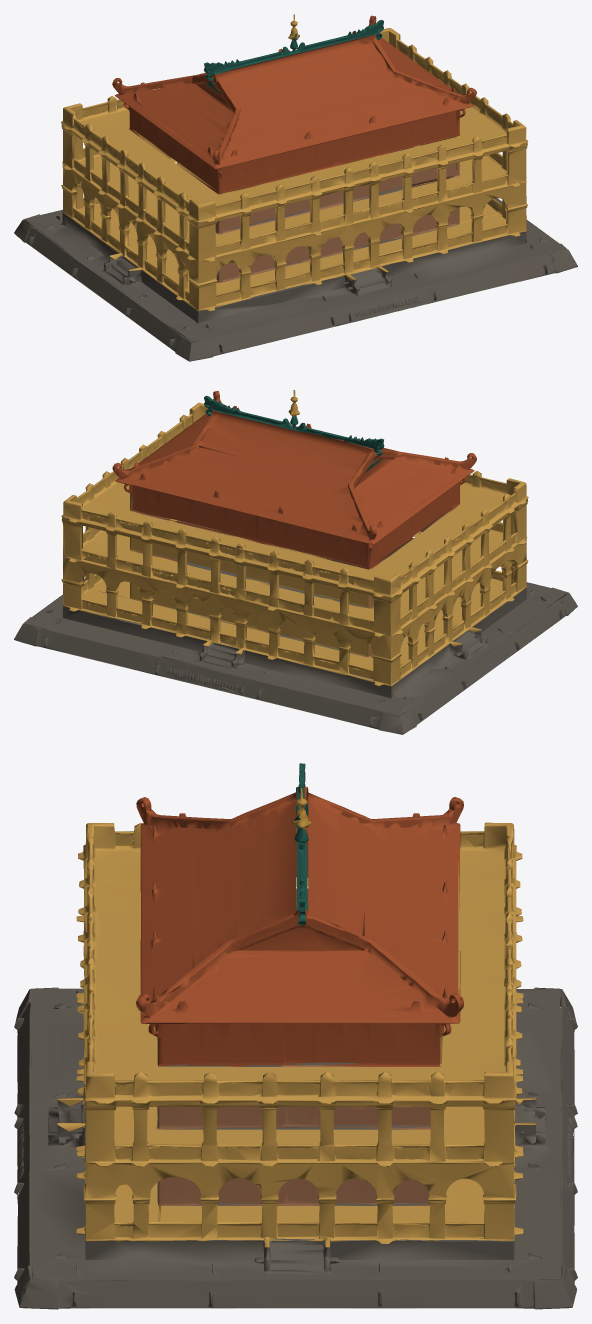
Rendered from ben-nha-rong.glb.
3 renders of one model, top to bottom at view 1: azimuth 30°, elevation 25°; view 2: azimuth 150°, elevation 25°; view 3: azimuth 270°, elevation 25°, orthographic. The views are drawn at different scales.
Visible parts, largest first — view 1: BenNhaRong_Arches, BenNhaRong_Roof, BenNhaRong_Base, BenNhaRong_Wall, BenNhaRong_Dragon; view 2: BenNhaRong_Arches, BenNhaRong_Roof, BenNhaRong_Base, BenNhaRong_Dragon, BenNhaRong_Wall; view 3: BenNhaRong_Arches, BenNhaRong_Roof, BenNhaRong_Base, BenNhaRong_Wall, BenNhaRong_Dragon.
Boxes of the visible parts, x1=… form: BenNhaRong_Arches: x1=61, y1=28, x2=528, y2=311; BenNhaRong_Roof: x1=112, y1=15, x2=476, y2=194; BenNhaRong_Base: x1=14, y1=187, x2=577, y2=361; BenNhaRong_Wall: x1=129, y1=129, x2=460, y2=282; BenNhaRong_Dragon: x1=204, y1=20, x2=383, y2=94; BenNhaRong_Arches: x1=61, y1=402, x2=528, y2=686; BenNhaRong_Roof: x1=112, y1=391, x2=476, y2=568; BenNhaRong_Base: x1=14, y1=534, x2=577, y2=734; BenNhaRong_Dragon: x1=204, y1=395, x2=384, y2=471; BenNhaRong_Wall: x1=129, y1=503, x2=460, y2=657; BenNhaRong_Arches: x1=57, y1=822, x2=535, y2=1247; BenNhaRong_Roof: x1=136, y1=786, x2=463, y2=1066; BenNhaRong_Base: x1=14, y1=987, x2=577, y2=1309; BenNhaRong_Wall: x1=156, y1=885, x2=430, y2=1205; BenNhaRong_Dragon: x1=292, y1=763, x2=308, y2=924.
Bounding box in the file's own units: 1.76 × 0.9991 × 1.38.
